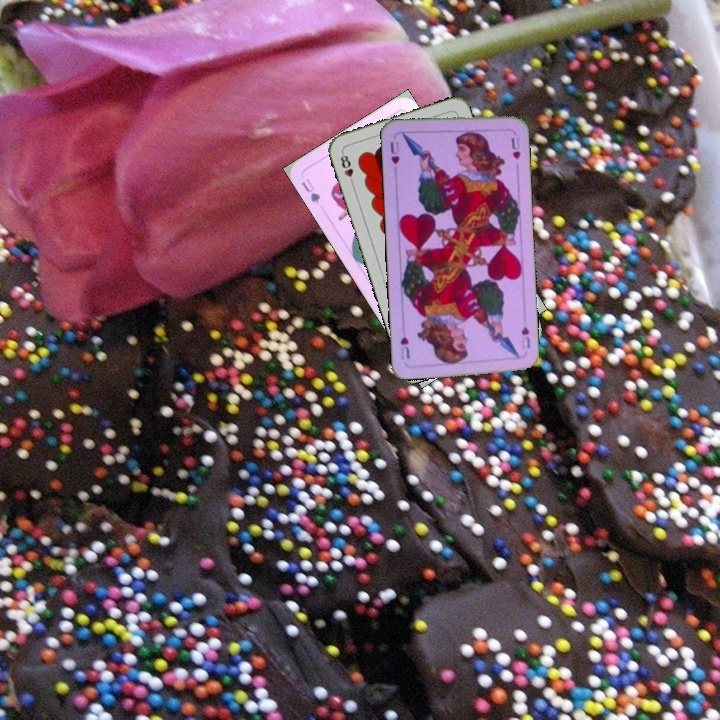GU: (297, 175, 323, 207)
H8: (336, 148, 357, 188)
HU: (386, 137, 402, 175), (518, 323, 533, 350)
